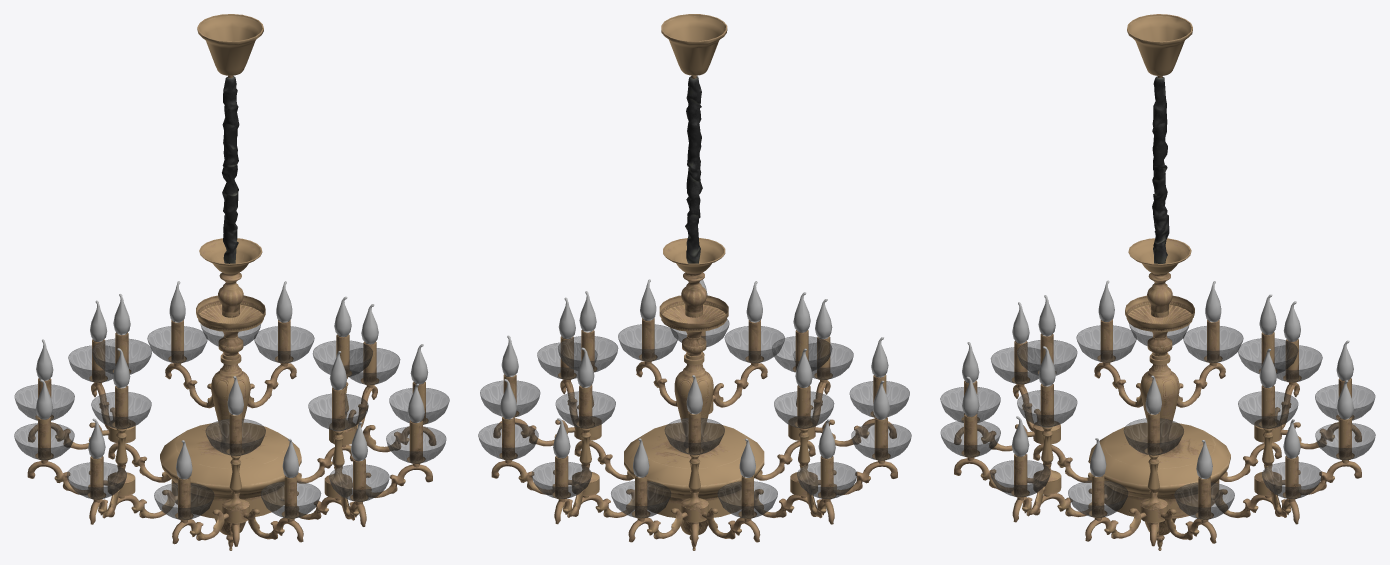
File: chandelier_03_4k-v1.glb
3 renders of one model, left to right at view 1: azimuth 30°, elevation 25°; view 2: azimuth 150°, elevation 25°; view 3: azimuth 270°, elevation 25°, orthographic.
Parts seen in each view (by area): view 1: Chandelier_03; view 2: Chandelier_03; view 3: Chandelier_03.
Part boxes in pixels (x1,y1,x2,y2): Chandelier_03: (14,14,449,550); Chandelier_03: (478,14,911,550); Chandelier_03: (940,14,1375,550).
Size of the model in its own units: 0.7804 by 1.04 by 0.7855.
2 materials, 2 textured.
